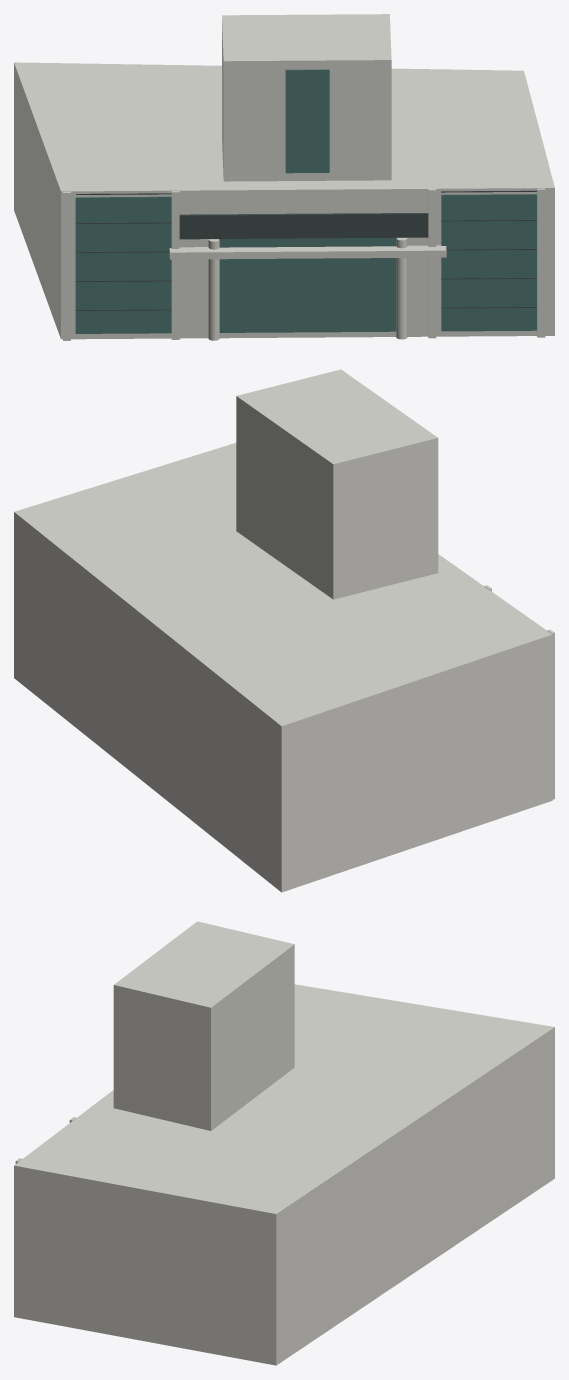
3 views of the same model, one above another, from view 1: azimuth 30°, elevation 25°; view 2: azimuth 150°, elevation 25°; view 3: azimuth 270°, elevation 25° (orthographic). The views are drawn at different scales.
Parts seen in each view (by area): view 1: sv4_stone, sv4_opaque glazing, sv4_frames; view 2: sv4_stone; view 3: sv4_stone.
Part boxes in pixels (x1,y1,x2,y2): sv4_stone: (14, 14, 554, 340); sv4_opaque glazing: (75, 69, 536, 333); sv4_frames: (76, 190, 536, 310); sv4_stone: (14, 369, 554, 892); sv4_stone: (14, 921, 554, 1365).
Size of the model in its own units: 34.01 by 18.5 by 33.
